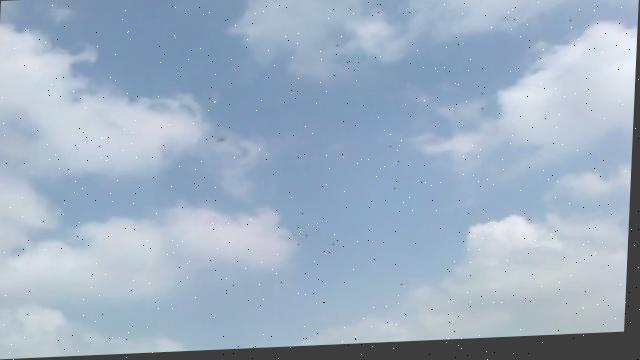drone: (216, 134, 226, 146)
